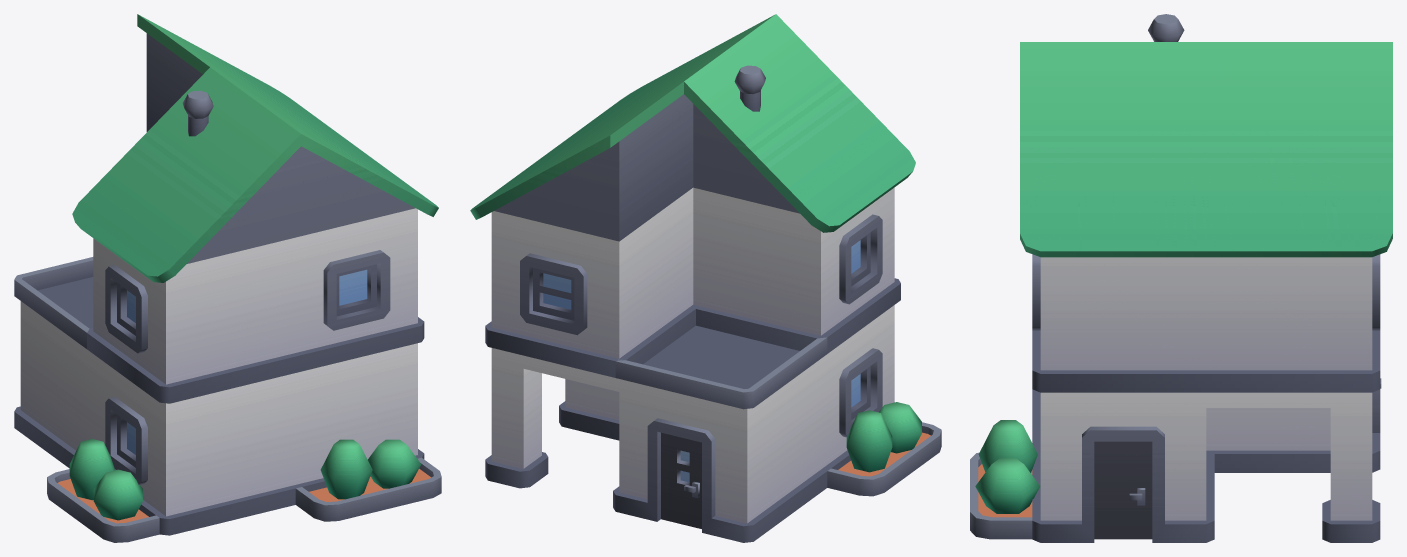
File: bld-sub-r-010e3cc5798d.glb
The picture shows the model from 3 angles, left to right: view 1: azimuth 30°, elevation 25°; view 2: azimuth 150°, elevation 25°; view 3: azimuth 270°, elevation 25°; orthographic projection. The views are drawn at different scales.
Parts seen in each view (by area): view 1: building-type-r; view 2: building-type-r; view 3: building-type-r.
Boxes of the visible parts, x1,y1,x2,y2 form: building-type-r: (14, 14, 441, 542); building-type-r: (470, 14, 941, 542); building-type-r: (970, 14, 1392, 542).
Bounding box in the file's own units: 8.22 × 9.13 × 8.16.
1 material, 1 textured.
